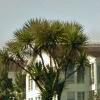Palm tree: (10, 11, 87, 99)
